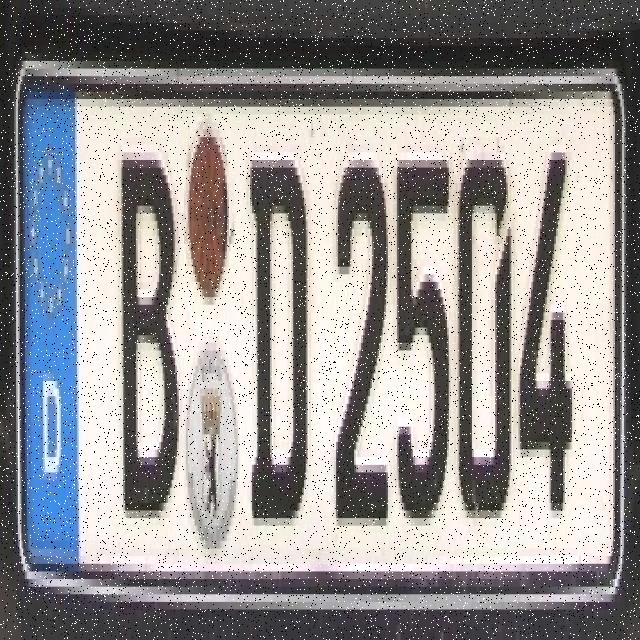licenseplate: (5, 19, 629, 612)
